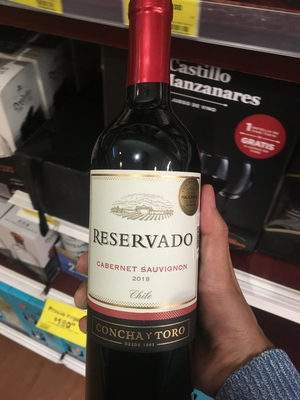reservado cabernet sauvignon: (87, 3, 217, 391)
